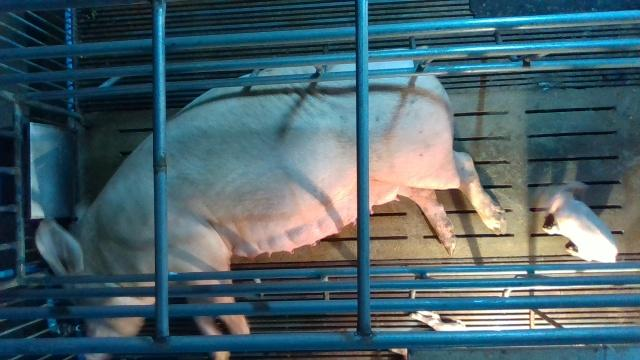piglet: (536, 178, 619, 265)
sow-sleep-lactate: (37, 62, 505, 360)
